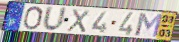4: (117, 11, 135, 37), (90, 11, 108, 34)
M: (134, 12, 164, 39)
O: (22, 5, 45, 31)
U: (41, 5, 68, 33)
X: (66, 8, 92, 34)
